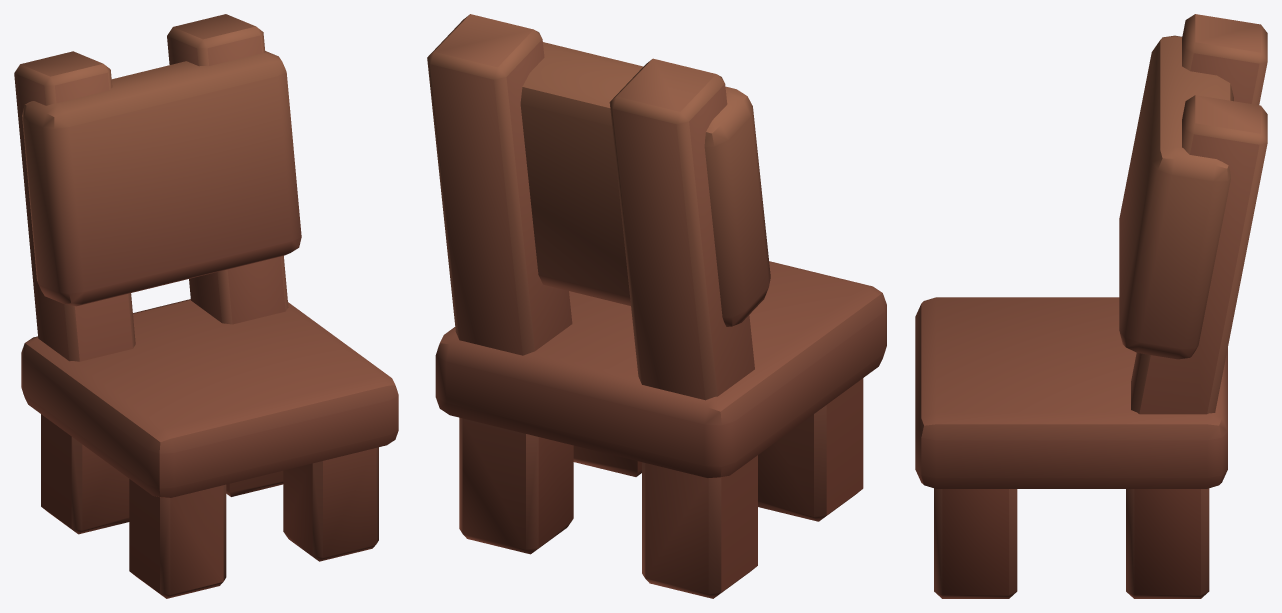
Rendered from K_chair_B_wood.glb.
The picture shows the model from 3 angles, left to right: view 1: azimuth 30°, elevation 25°; view 2: azimuth 150°, elevation 25°; view 3: azimuth 270°, elevation 25°; orthographic projection. The views are drawn at different scales.
Visible parts, largest first — view 1: chair_B_wood; view 2: chair_B_wood; view 3: chair_B_wood.
Part boxes in pixels (x1,y1,x2,y2): chair_B_wood: [14, 14, 398, 598]; chair_B_wood: [427, 14, 886, 598]; chair_B_wood: [915, 14, 1267, 598].
Size of the model in its own units: 0.75 by 1.26 by 0.8451.
